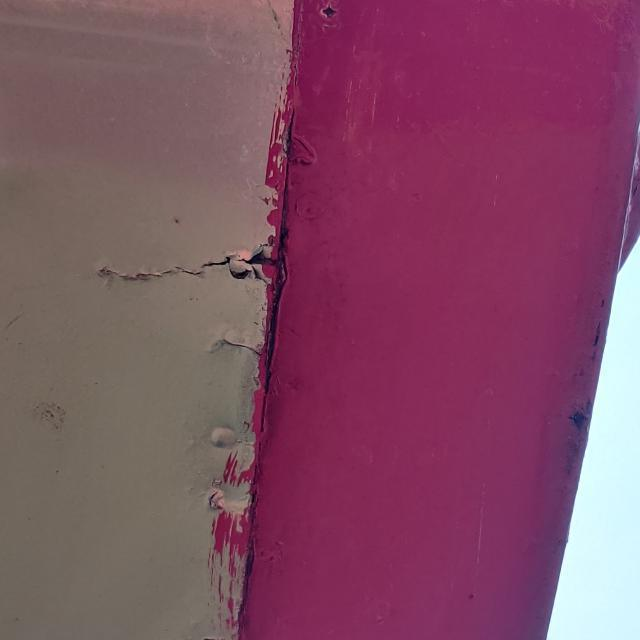Crack: (96, 236, 275, 284), (207, 326, 264, 370)
